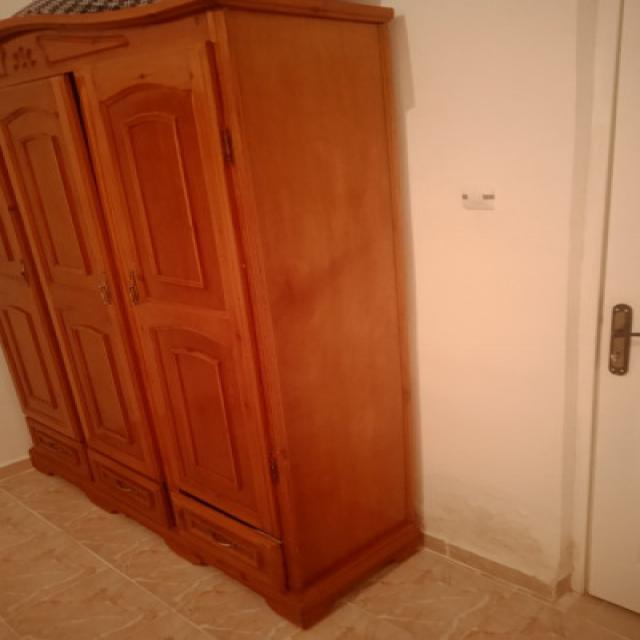wardrobe: (14, 17, 439, 623)
